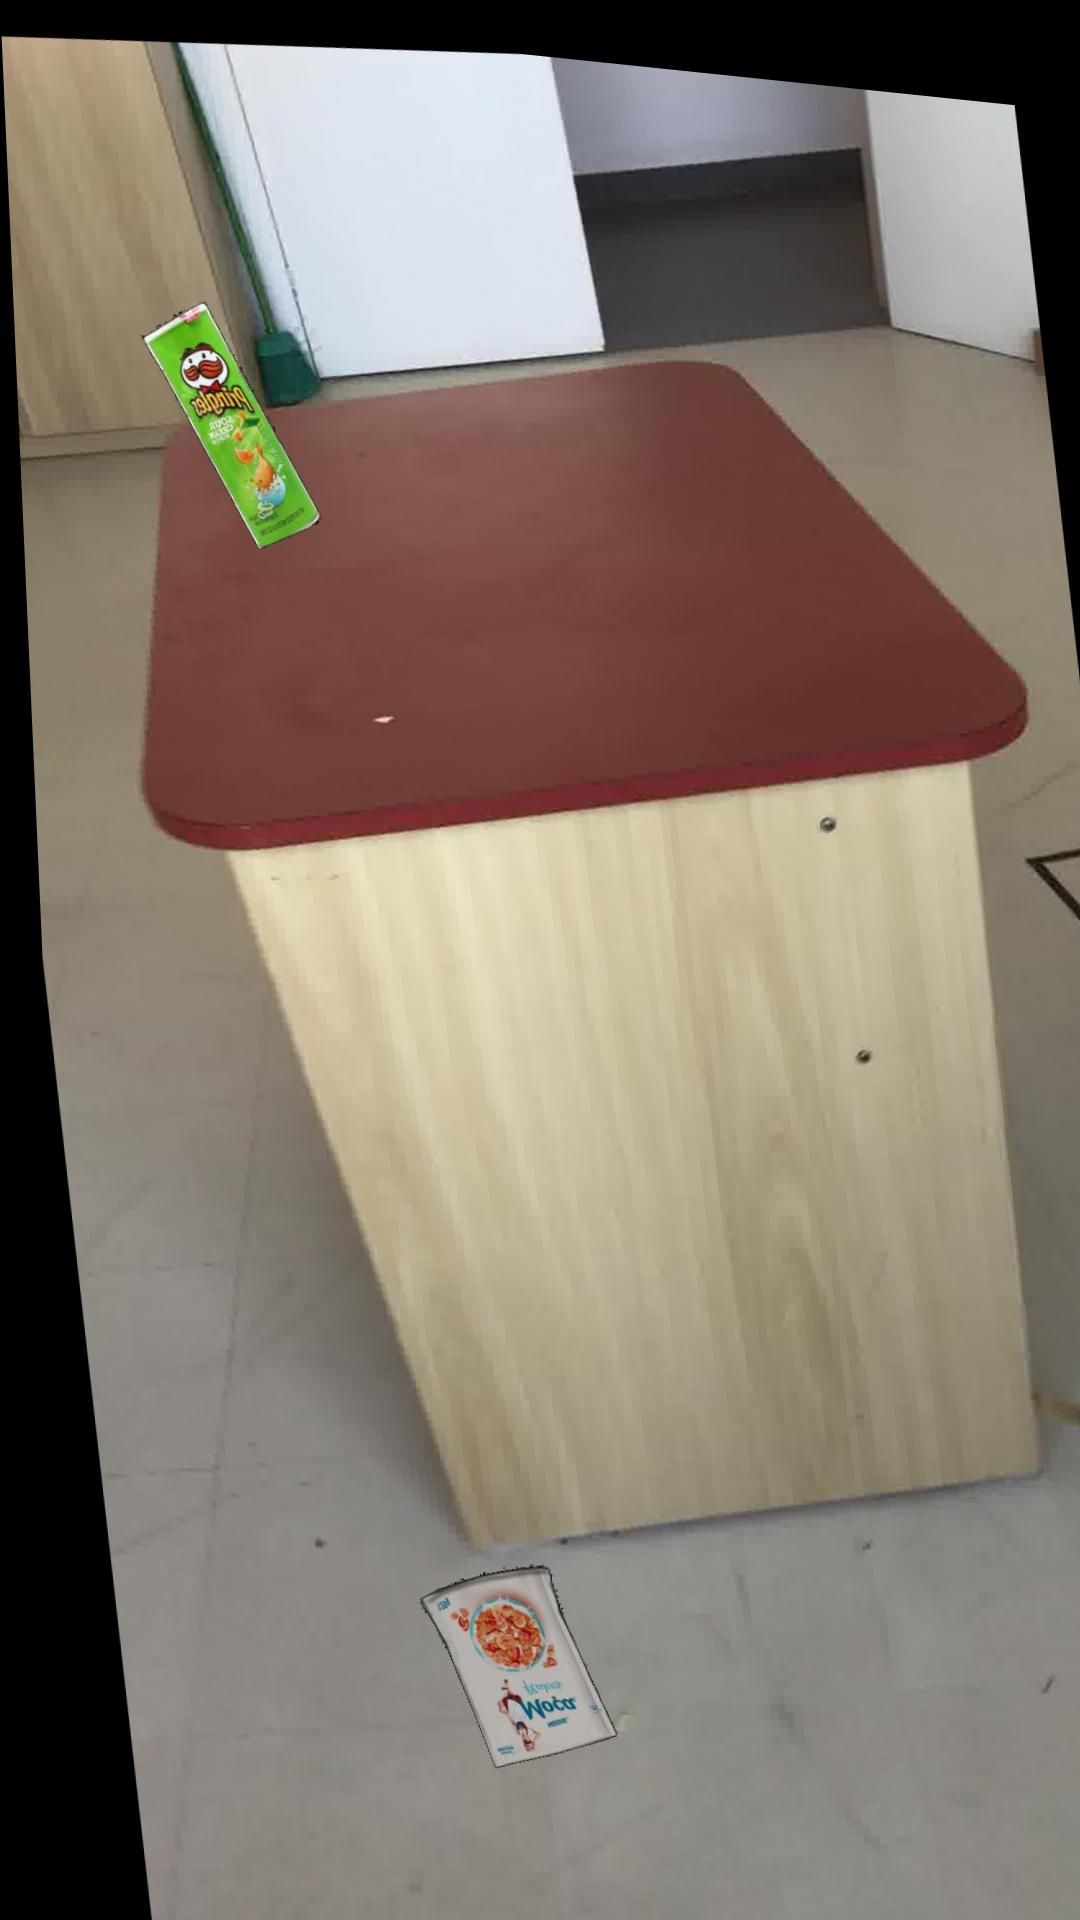corn flakes: (402, 1552, 597, 1756)
pringles: (135, 295, 313, 542)
